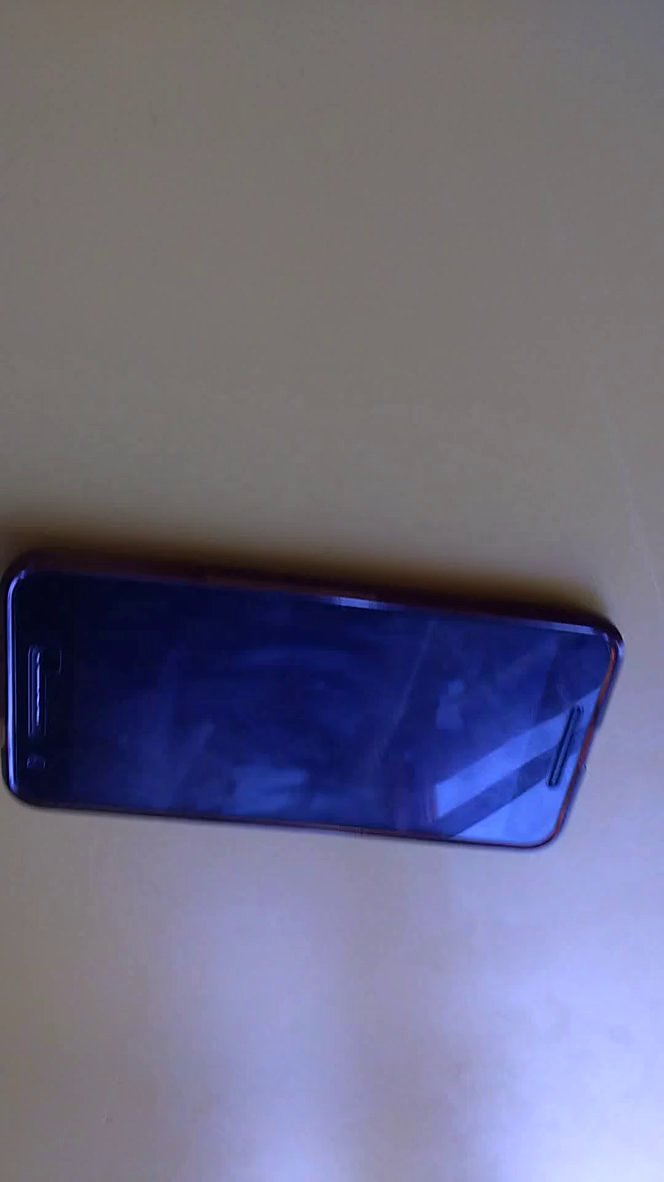phone: (1, 520, 635, 868)
